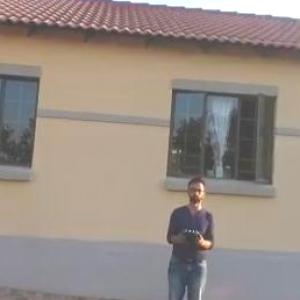follow: (160, 171, 220, 299)
